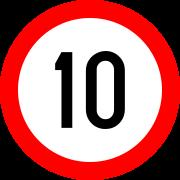Speed Limit -10-: (18, 24, 161, 158)
